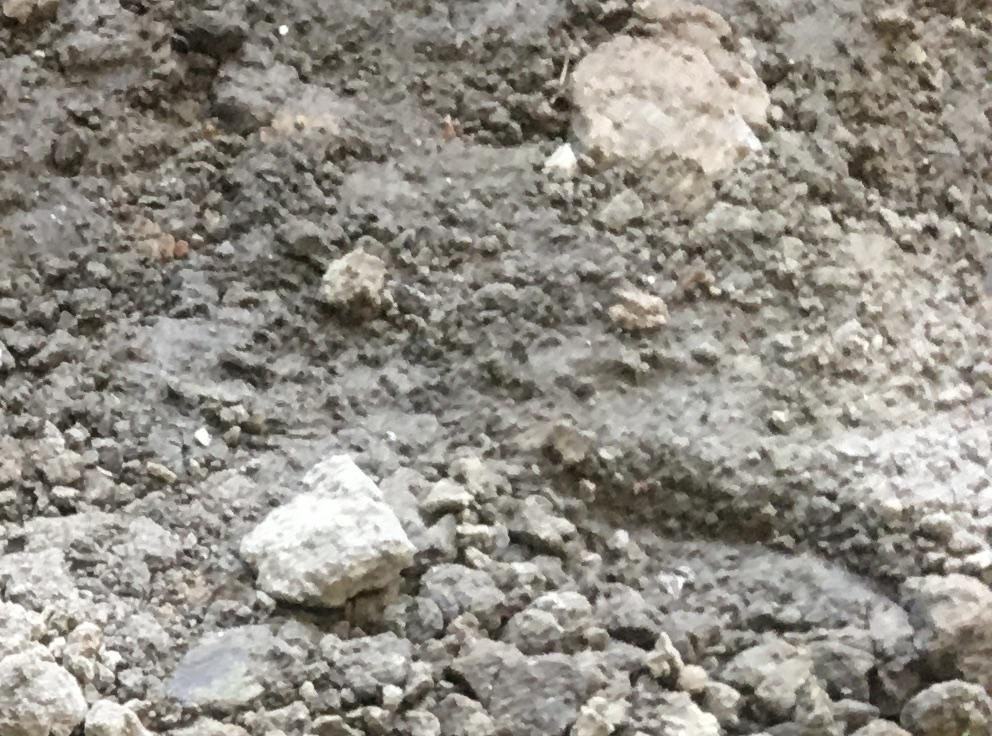block: (239, 447, 421, 614)
